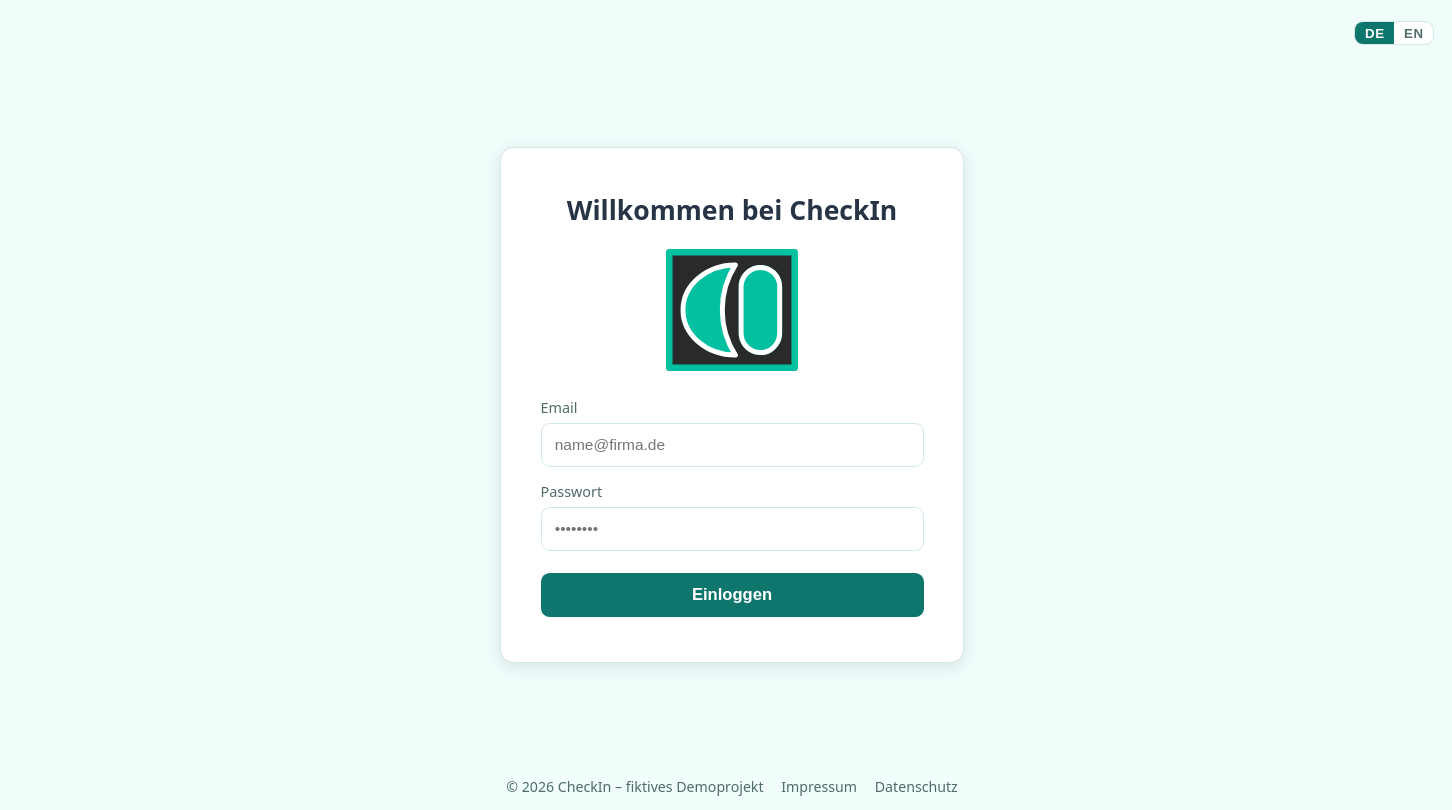
Test: Login › signs in, hands over the token and redirects to the dashboard
This screenshot has width=1452, height=810.
Type "admin@checkin.de" into the field labelled "Email" at [732, 445], box [540,423,924,467]
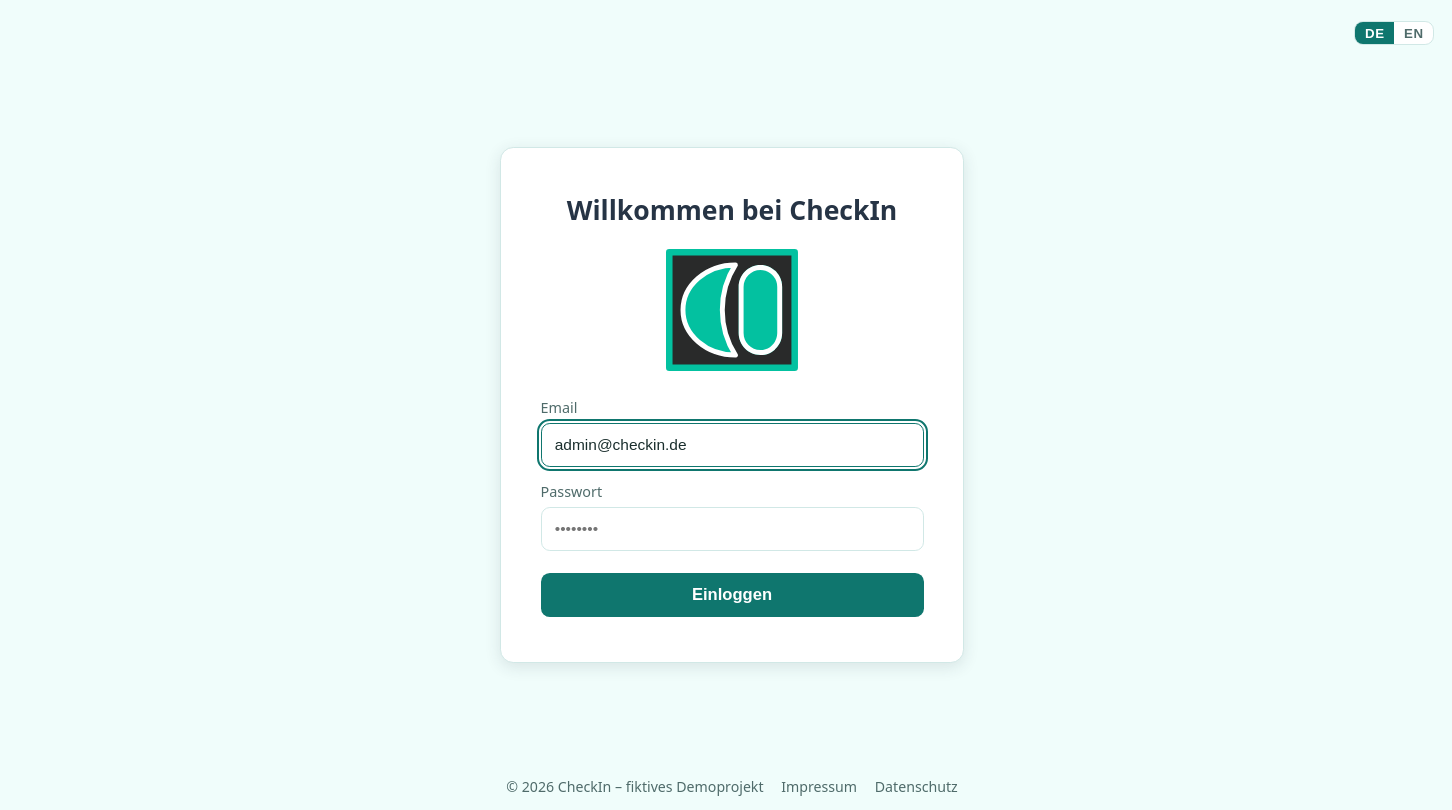
Type "Admin123!" into the password field labelled "Passwort" at [732, 529], box [540,507,924,551]
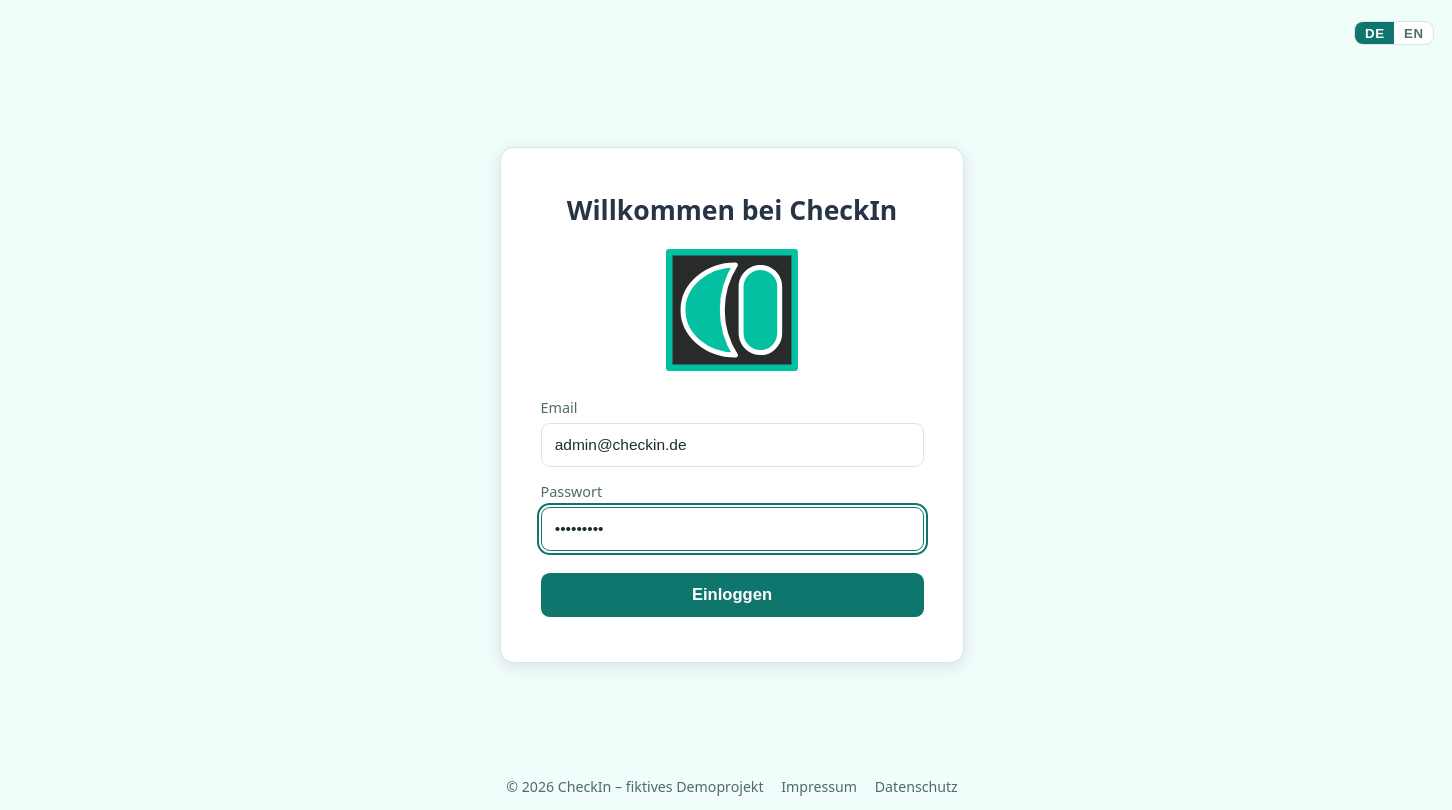
Click the button "Einloggen" at [732, 595], box [540,573,924,617]
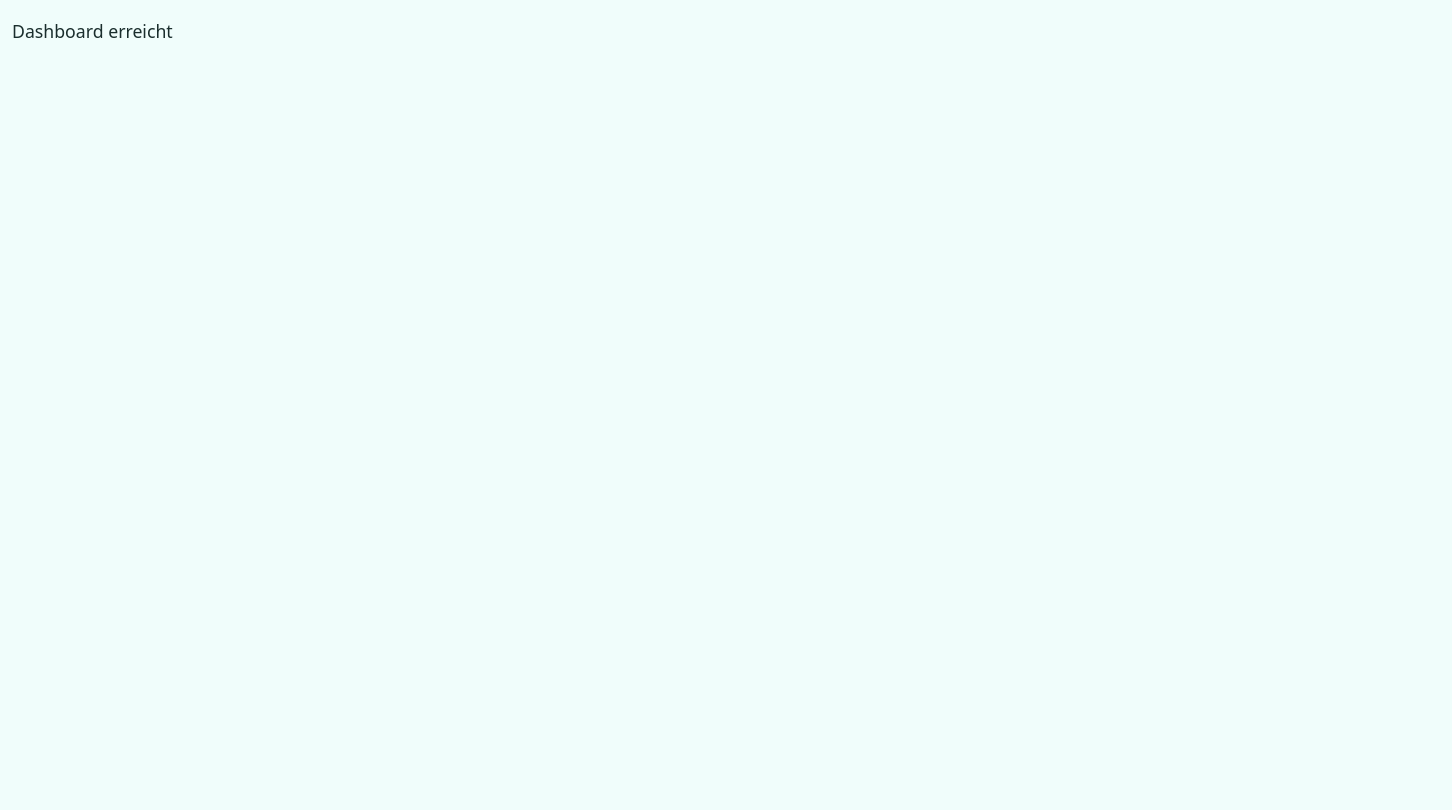
Now the text "Dashboard erreicht" is shown, box [12,19,173,43]
